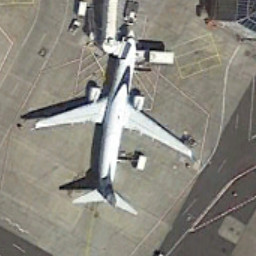Airplane: (24, 22, 204, 232)
